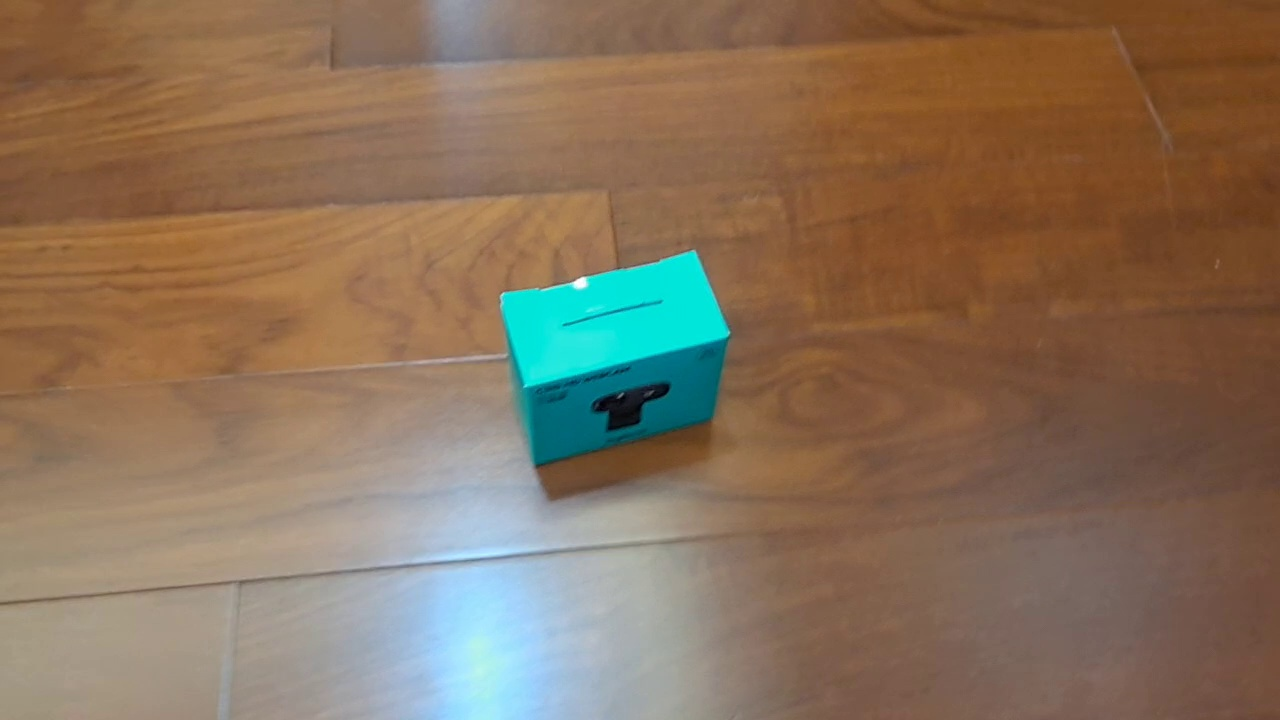webcam: (499, 248, 732, 468)
